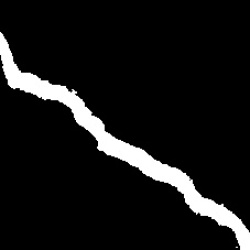crack: (0, 32, 248, 248)
